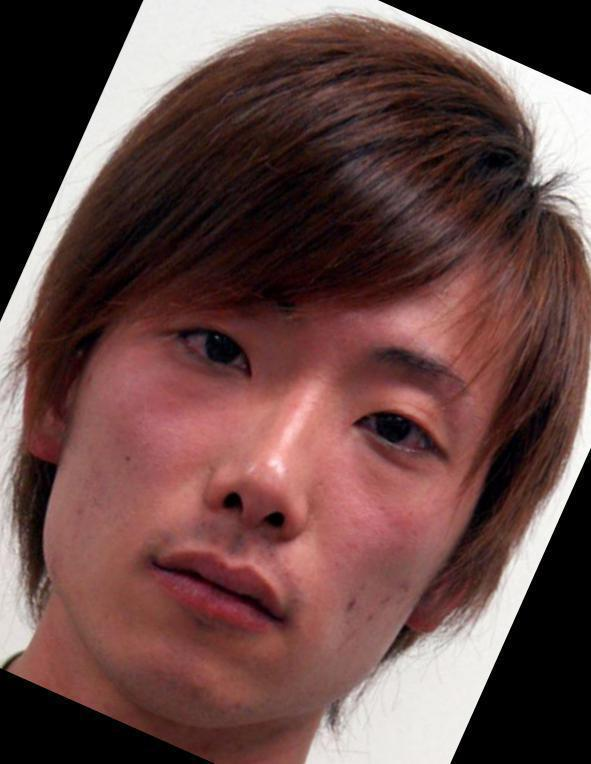Drunk: (107, 220, 456, 697)
